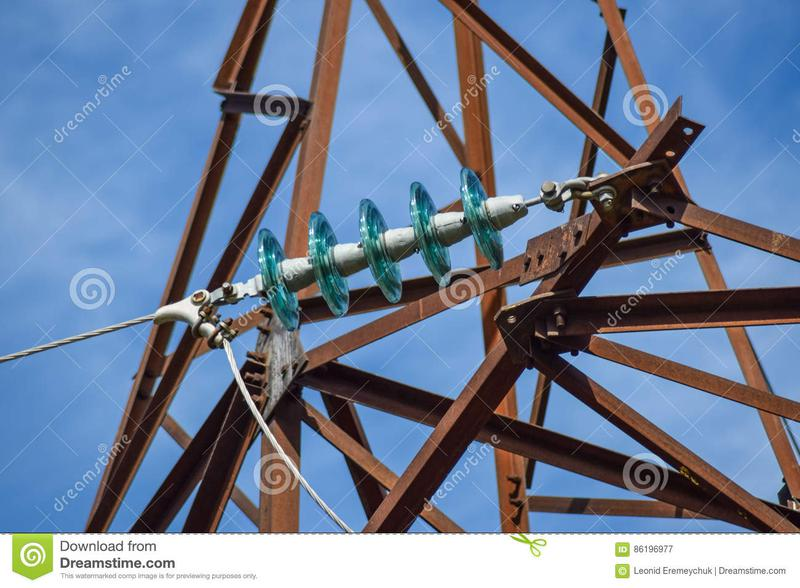isolator: (257, 165, 505, 331)
